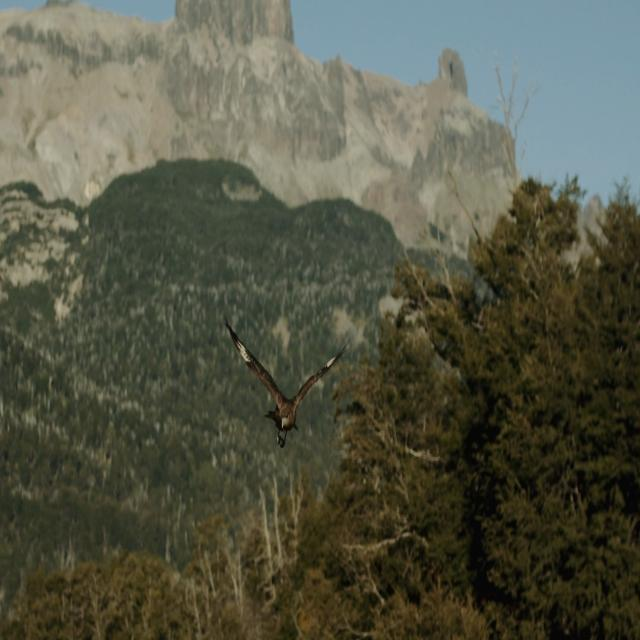bird: (220, 305, 350, 458)
